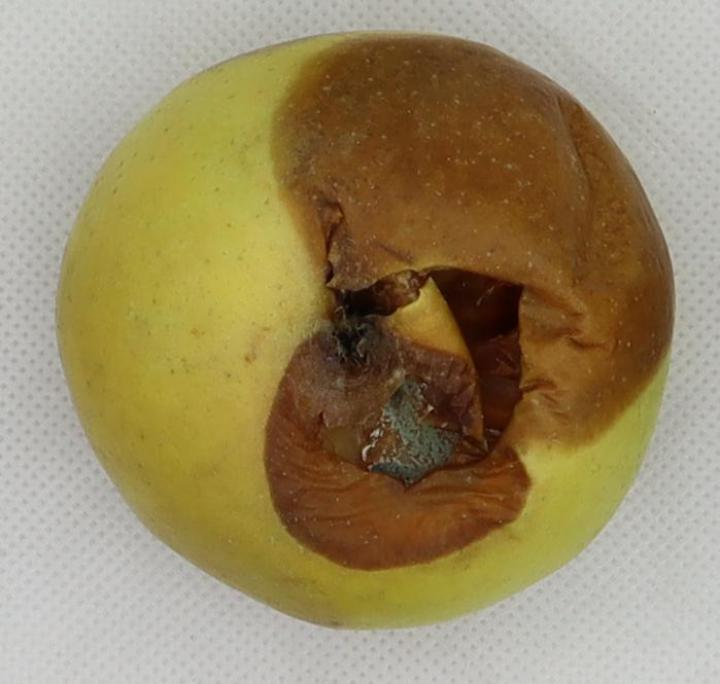apple: (58, 33, 673, 626)
rot_mold_decay: (266, 36, 673, 570)
